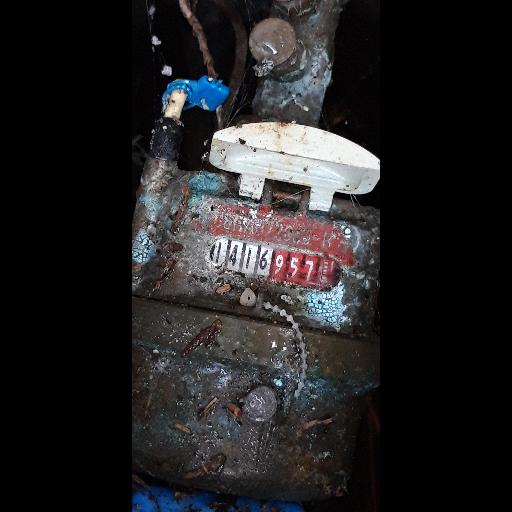1: (212, 238, 231, 270), (242, 243, 261, 275), (319, 258, 337, 291)
4: (226, 240, 247, 273)
5: (286, 250, 306, 284)
6: (255, 246, 275, 277)
7: (300, 253, 322, 288)
9: (271, 248, 291, 281)
border_water_meter_number: (207, 234, 346, 295)
